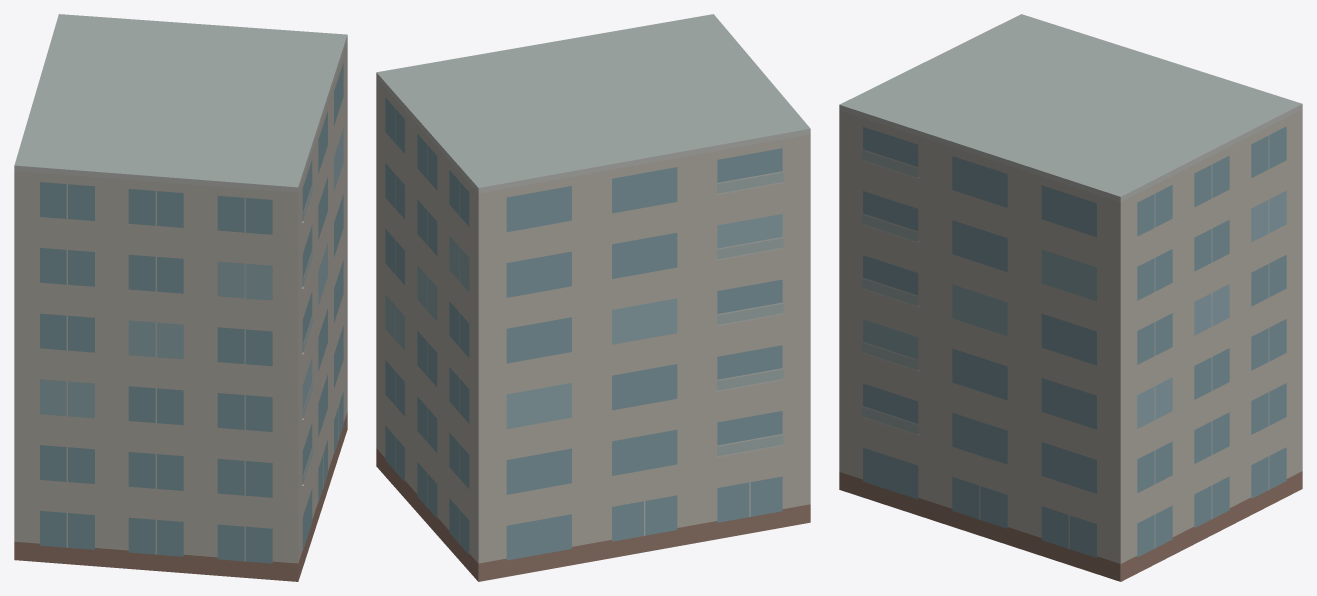
The model's file is survey-upis-32937058.glb.
The picture shows the model from 3 angles, left to right: view 1: azimuth 30°, elevation 25°; view 2: azimuth 150°, elevation 25°; view 3: azimuth 270°, elevation 25°; orthographic projection. The views are drawn at different scales.
Parts seen in each view (by area): view 1: survey-upis-32937058.tmp; view 2: survey-upis-32937058.tmp; view 3: survey-upis-32937058.tmp.
Boxes of the visible parts, bbox=[...] form: survey-upis-32937058.tmp: bbox=[14, 14, 347, 581]; survey-upis-32937058.tmp: bbox=[376, 14, 810, 581]; survey-upis-32937058.tmp: bbox=[839, 14, 1302, 581].
Size of the model in its own units: 17.79 by 17.45 by 19.04.
